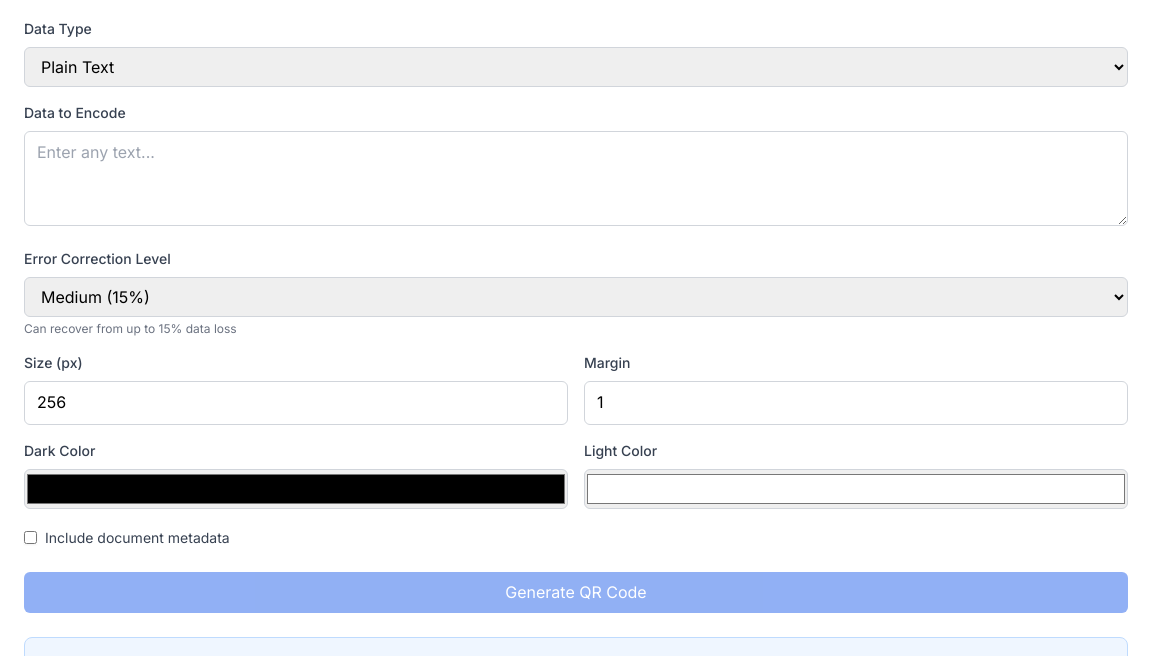
Test: QRCodeGenerator › validates URL input correctly
# Select URL data type
Select "Website URL" in the dropdown labelled "Data Type" at (576, 67), box [24,47,1128,87]
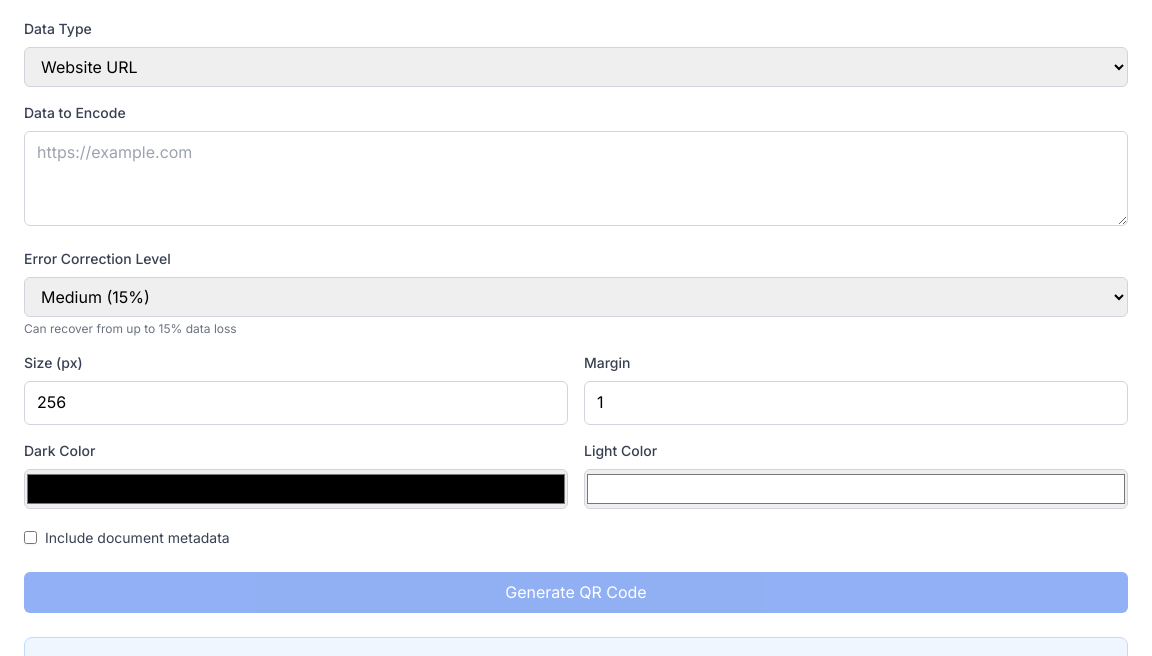
# Enter invalid URL
Type "invalid-url" into the text box labelled "Data to Encode" at (576, 178), box [24,131,1128,226]
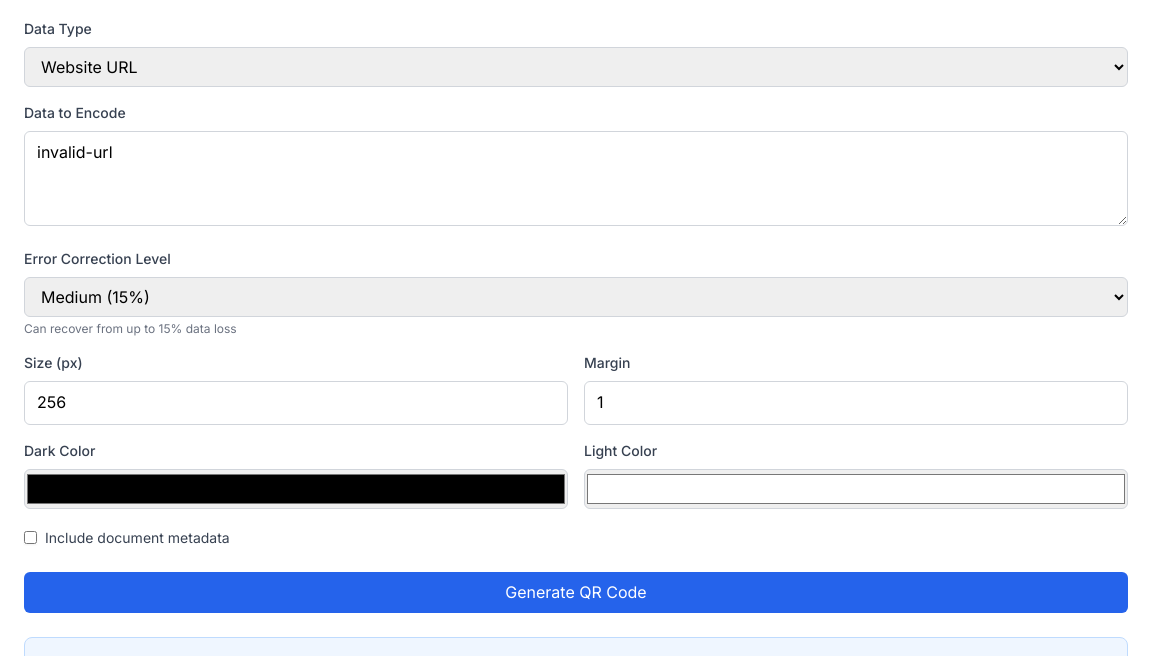
Click the button "Generate QR Code" at (576, 592), box [24,572,1128,613]
(page scrolled)
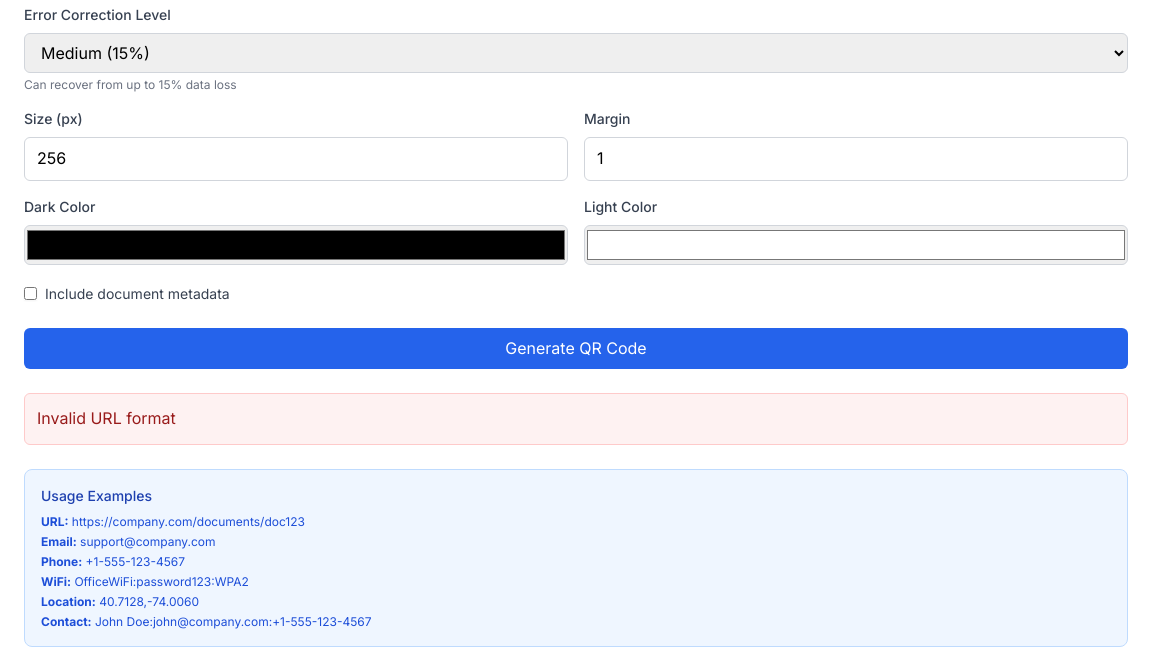
Expected: the text "Invalid URL format" is shown, [24,393,1128,445]
